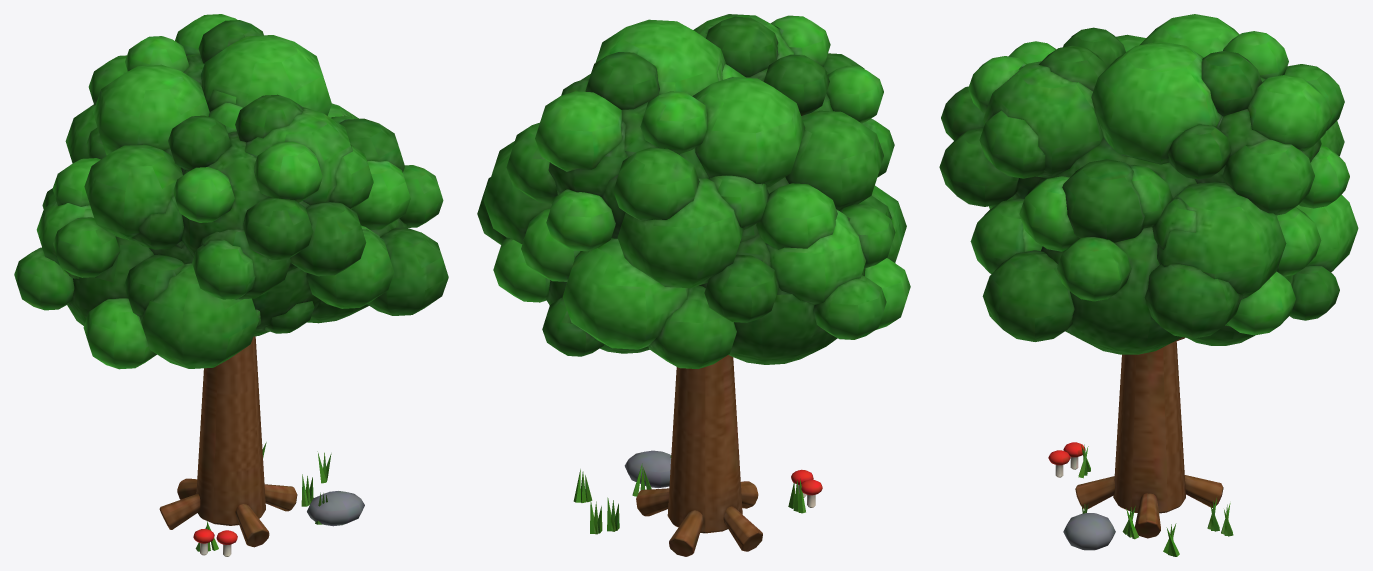
The model's file is tree_obs0.glb.
The picture shows the model from 3 angles, left to right: view 1: azimuth 30°, elevation 25°; view 2: azimuth 150°, elevation 25°; view 3: azimuth 270°, elevation 25°; orthographic projection. The views are drawn at different scales.
Parts seen in each view (by area): view 1: crown, tree_obs0; view 2: crown, tree_obs0; view 3: crown, tree_obs0.
Part boxes in pixels (<box>): crown: <box>14,14,448,369</box>; tree_obs0: <box>159,336,364,556</box>; crown: <box>477,14,910,368</box>; tree_obs0: <box>573,355,822,556</box>; crown: <box>939,14,1358,354</box>; tree_obs0: <box>1048,337,1233,556</box>.
Bounding box in the file's own units: 1.2 × 1.41 × 1.11.
1 material, 1 textured.
